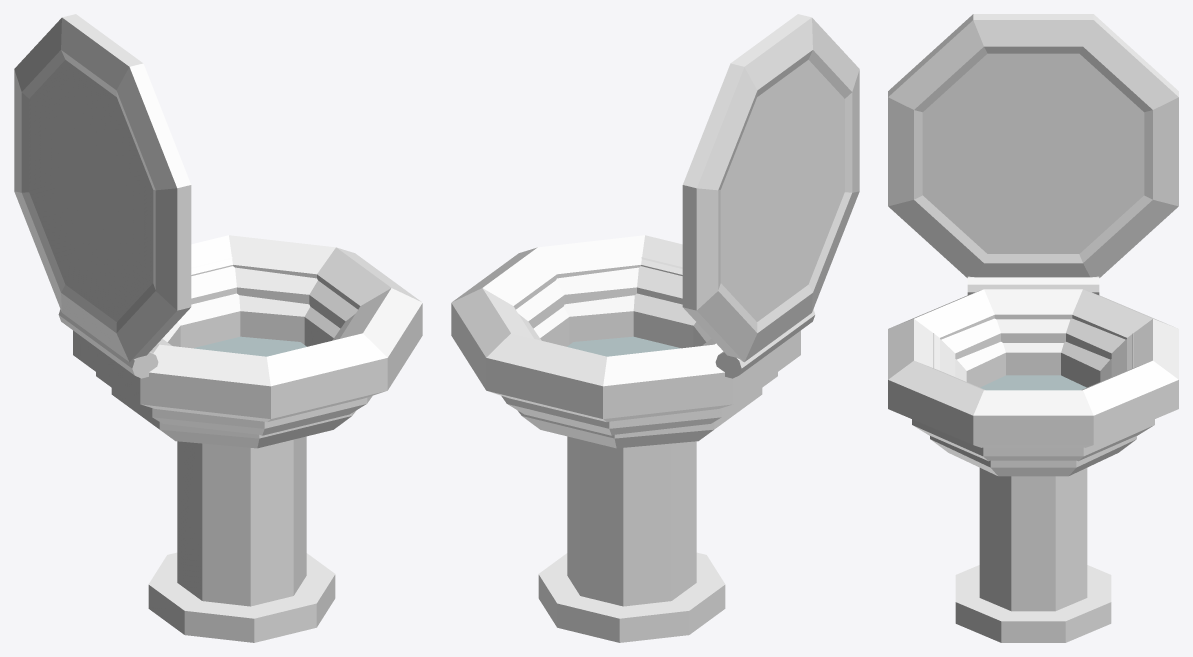
The model's file is toilet.fbx.
3 views of the same model, side by side, from view 1: azimuth 30°, elevation 25°; view 2: azimuth 150°, elevation 25°; view 3: azimuth 270°, elevation 25° (orthographic). The views are drawn at different scales.
Visible parts, largest first — view 1: torus, cylinder, torus_1, cylinder_2, torus_3, cylinder_3, torus_2, cylinder_1, cylinder_4; view 2: torus, cylinder, torus_1, cylinder_2, torus_3, cylinder_3, torus_2, cylinder_1, cylinder_4; view 3: cylinder, torus_1, torus, cylinder_2, torus_2, torus_3, cylinder_3, cylinder_4, cylinder_1.
Part boxes in pixels (bbox=[...]): torus: bbox=[73, 235, 422, 421]; cylinder: bbox=[29, 60, 153, 321]; torus_1: bbox=[14, 14, 191, 362]; cylinder_2: bbox=[177, 436, 306, 606]; torus_3: bbox=[111, 293, 356, 448]; cylinder_3: bbox=[148, 552, 335, 642]; torus_2: bbox=[96, 257, 372, 435]; cylinder_1: bbox=[193, 336, 306, 356]; cylinder_4: bbox=[58, 309, 158, 378]; torus: bbox=[451, 235, 800, 421]; cylinder: bbox=[720, 60, 844, 321]; torus_1: bbox=[682, 14, 859, 362]; cylinder_2: bbox=[567, 436, 696, 606]; torus_3: bbox=[517, 293, 762, 448]; cylinder_3: bbox=[538, 552, 725, 642]; torus_2: bbox=[501, 257, 777, 435]; cylinder_1: bbox=[567, 336, 680, 356]; cylinder_4: bbox=[715, 309, 815, 378]; cylinder: bbox=[922, 53, 1144, 253]; torus_1: bbox=[888, 14, 1178, 277]; torus: bbox=[888, 289, 1178, 447]; cylinder_2: bbox=[979, 468, 1087, 611]; torus_2: bbox=[912, 318, 1154, 461]; torus_3: bbox=[930, 342, 1136, 476]; cylinder_3: bbox=[955, 565, 1111, 642]; cylinder_4: bbox=[967, 276, 1099, 294]; cylinder_1: bbox=[980, 375, 1086, 390].
Size of the model in its own units: 32.34 by 61.46 by 30.41.
1 material, 1 textured.
